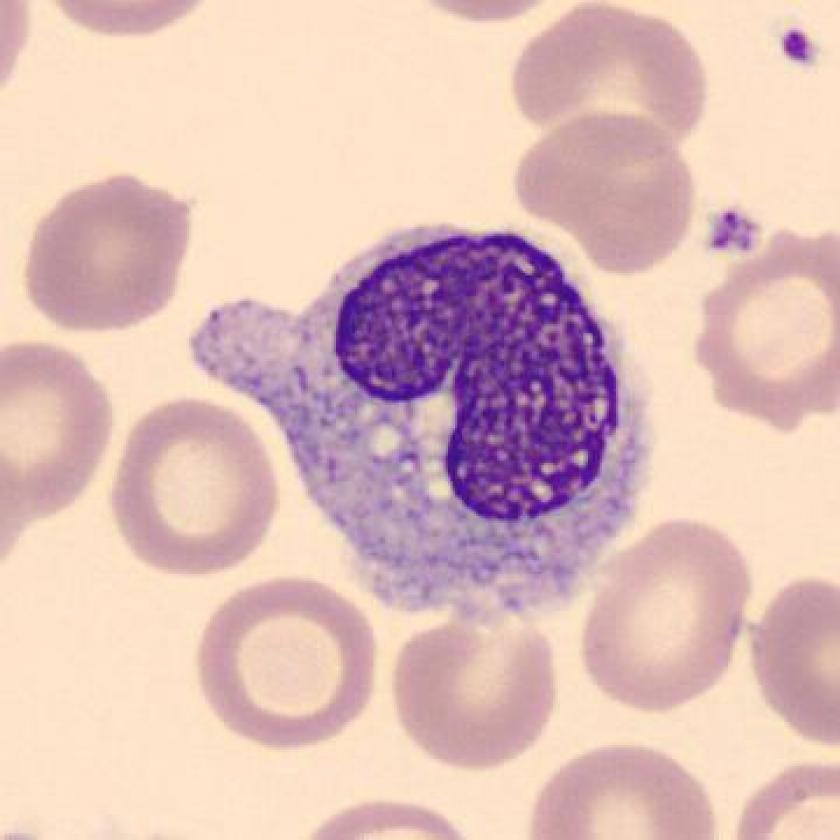monocyte: (181, 195, 668, 633)
